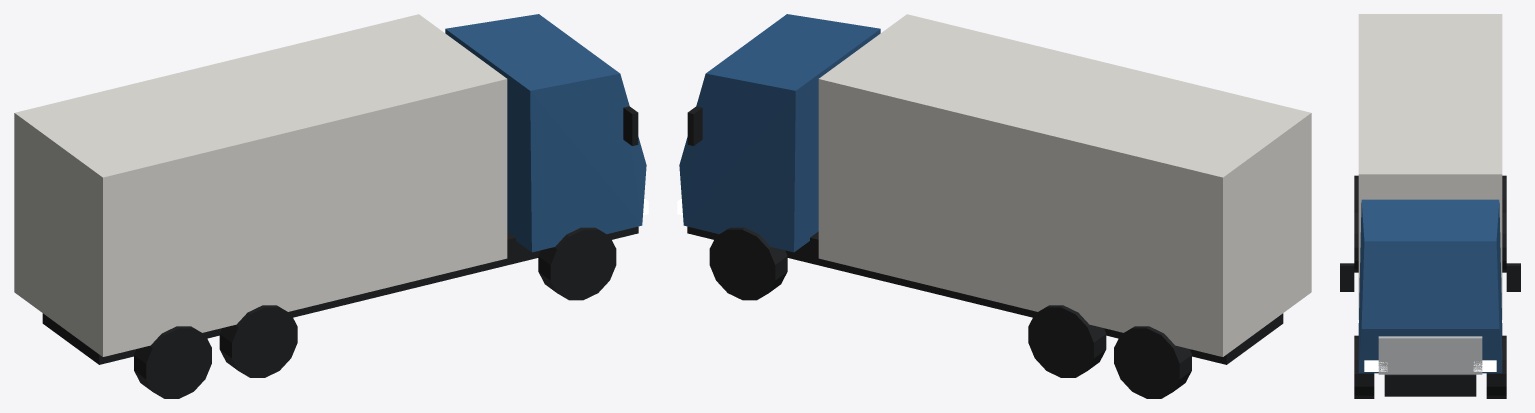
The model's file is truck.glb.
3 views of the same model, side by side, from view 1: azimuth 30°, elevation 25°; view 2: azimuth 150°, elevation 25°; view 3: azimuth 270°, elevation 25° (orthographic). The views are drawn at different scales.
Parts seen in each view (by area): view 1: Truck; view 2: Truck; view 3: Truck.
Boxes of the visible parts, bbox=[...] form: Truck: bbox=[14, 14, 648, 398]; Truck: bbox=[677, 14, 1311, 398]; Truck: bbox=[1340, 14, 1520, 398].
Size of the model in its own units: 9 by 3.7 by 3.15.
